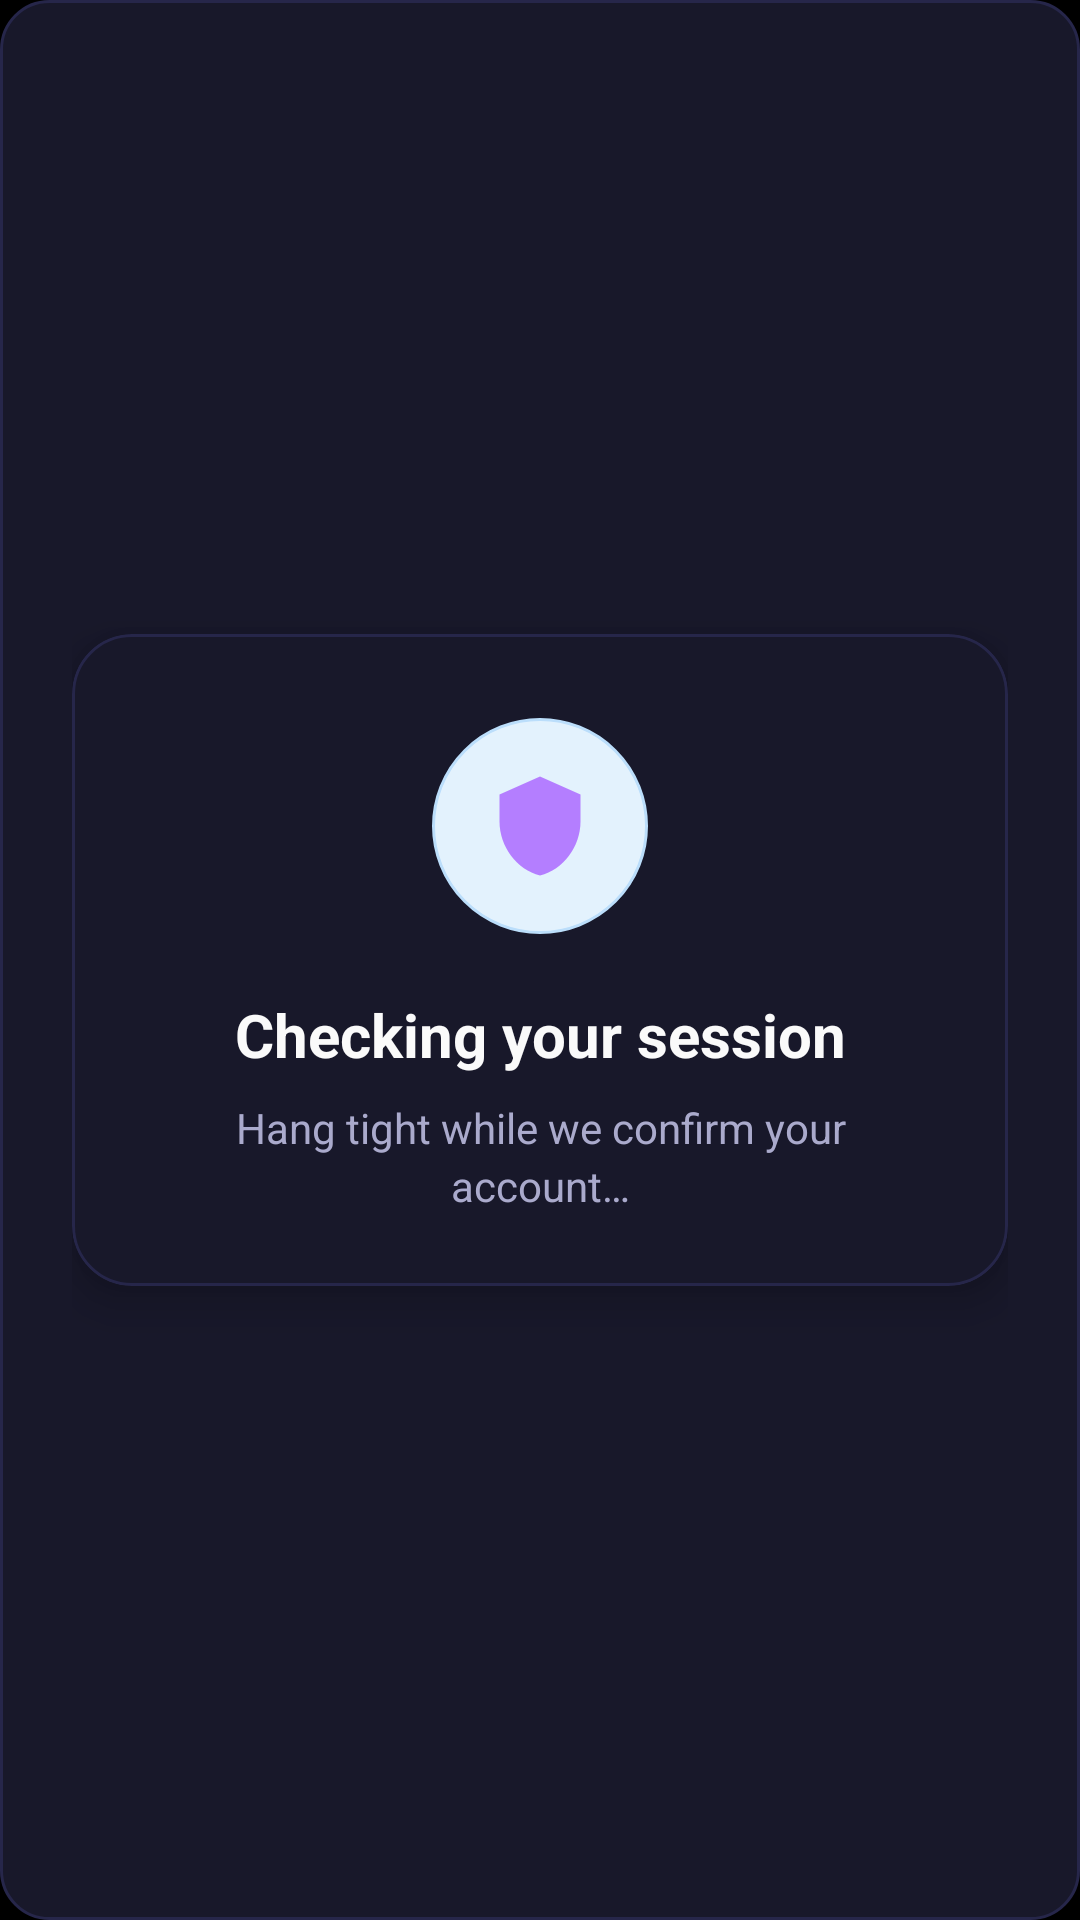

Named icons in this screenshot (1080w x 1920h) and their centers, (x=x, y=y):
shield: (x=540, y=826)
